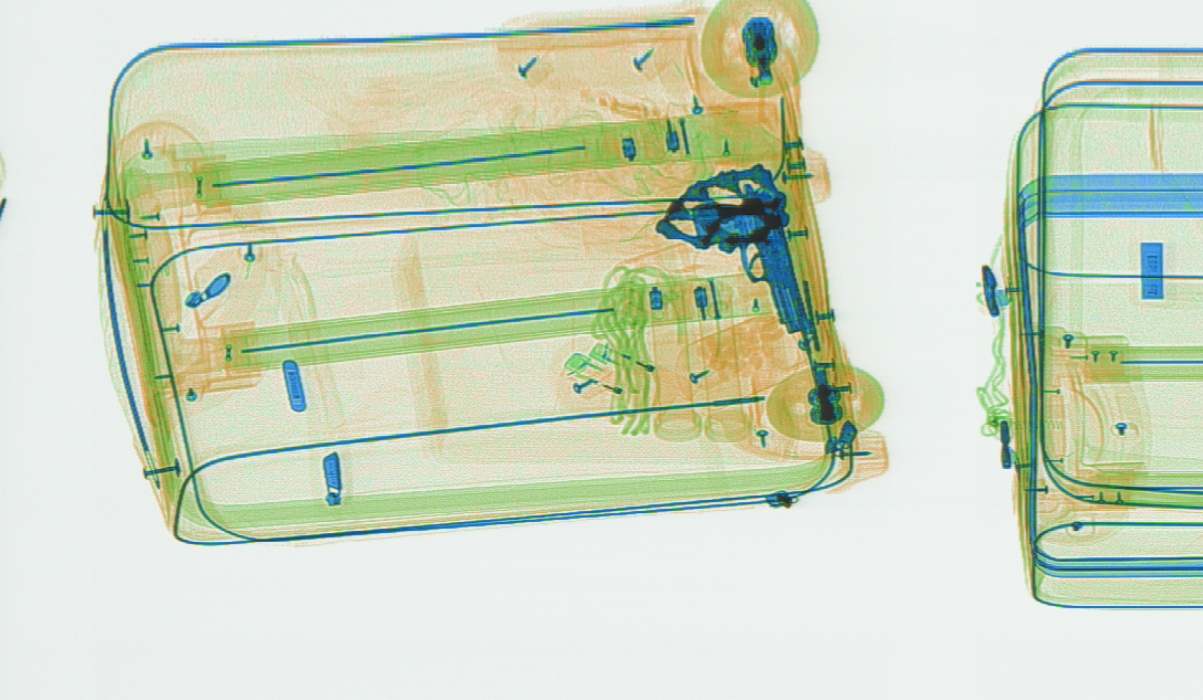lighter: (564, 350, 687, 422), (587, 342, 700, 400)
